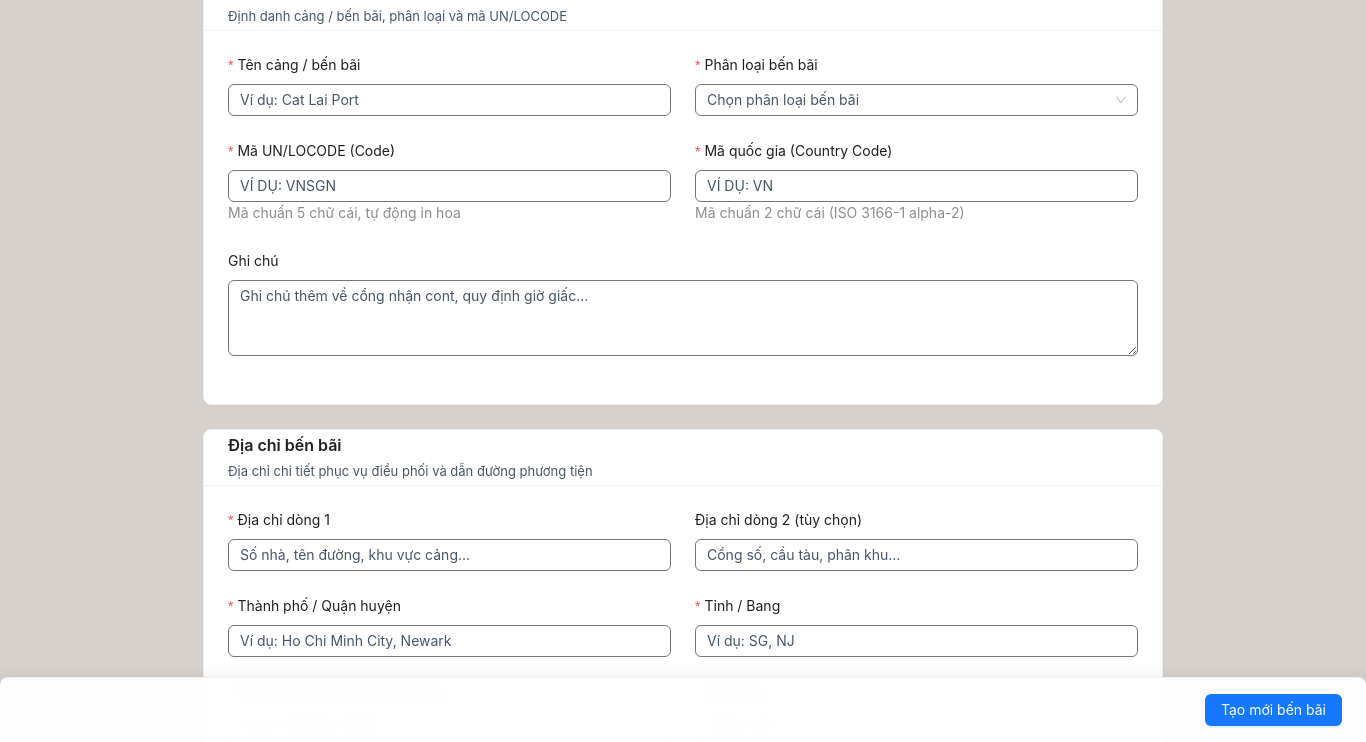
Test: TerminalForm Component › báo lỗi validation khi để trống các trường bắt buộc
The image size is (1366, 742).
Click the button "Tạo mới bến bãi" at point(1273, 710), box x1=1205 y1=694 x2=1342 y2=726
(page scrolled)
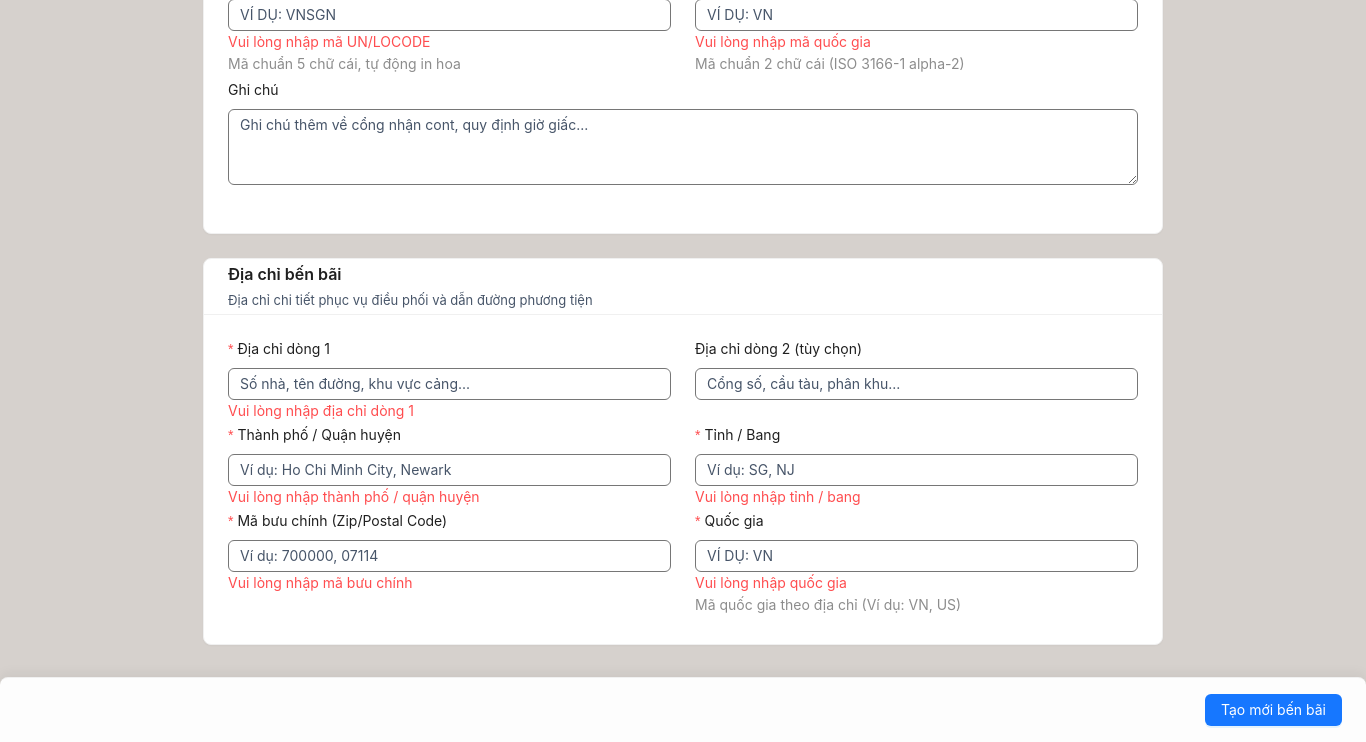
expect the text "Vui lòng nhập mã UN/LOCODE" is shown: met, box x1=228 y1=33 x2=430 y2=50
expect the text "Vui lòng nhập mã quốc gia" is shown: met, box x1=695 y1=33 x2=871 y2=50
expect the text "Vui lòng nhập địa chỉ dòng 1" is shown: met, box x1=228 y1=402 x2=414 y2=419
